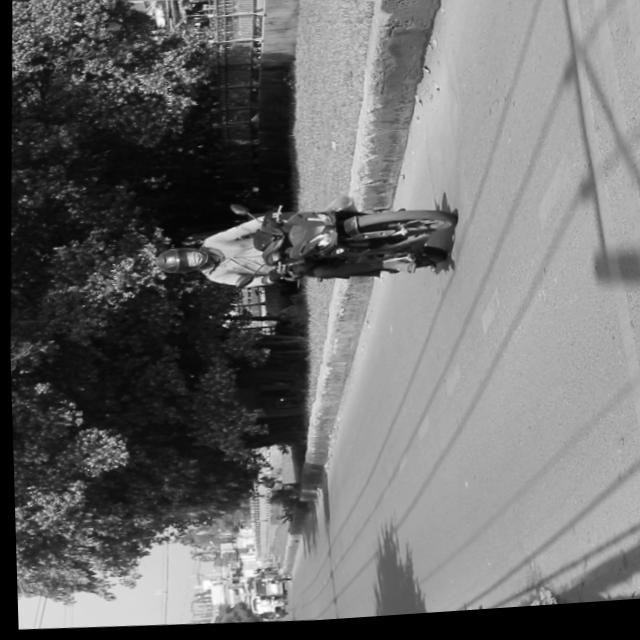helmet: (154, 246, 204, 277)
licenseplate: (151, 187, 459, 306)
